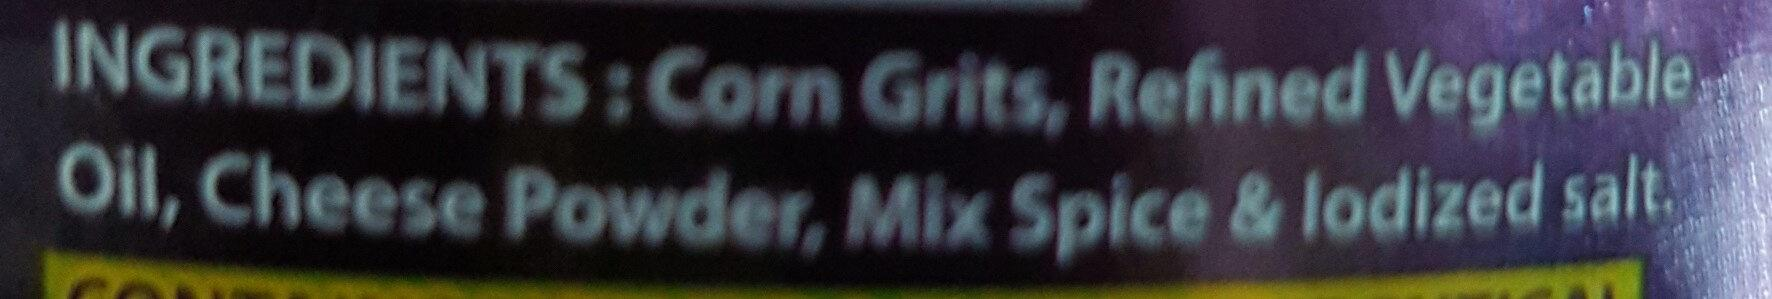ingredients: (35, 6, 1693, 262)
